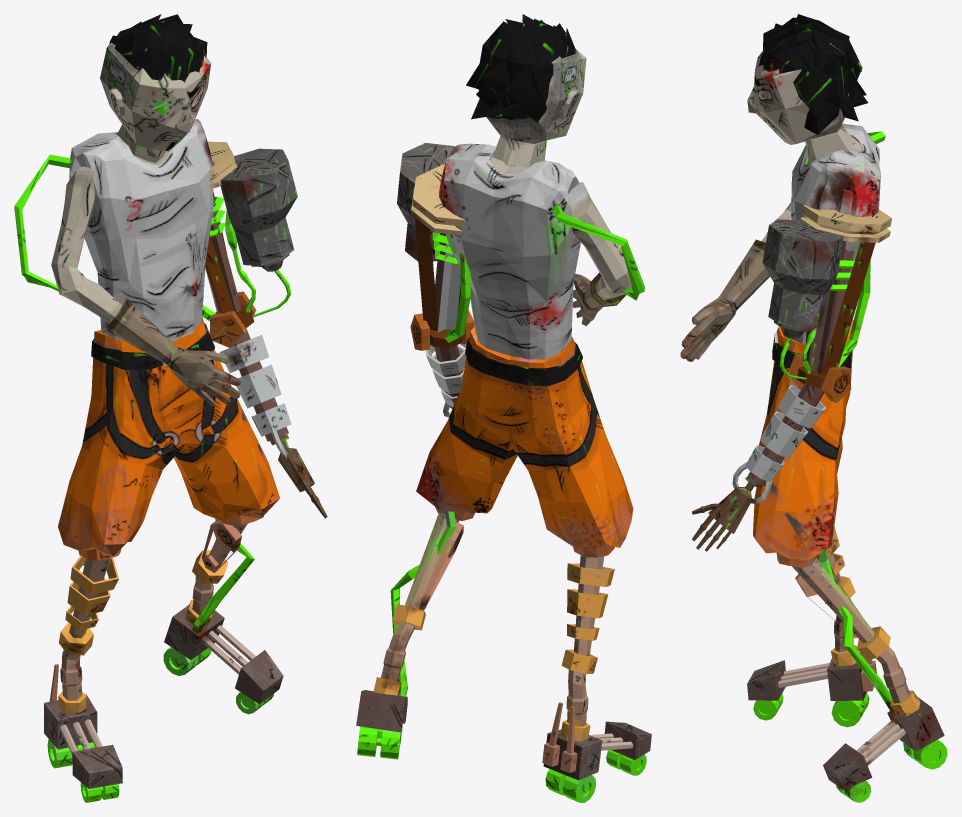
File: CyborgFINALAnimation_000174.obj
The picture shows the model from 3 angles, left to right: view 1: azimuth 30°, elevation 25°; view 2: azimuth 150°, elevation 25°; view 3: azimuth 270°, elevation 25°; orthographic projection. The views are drawn at different scales.
Visible parts, largest first — view 1: CyborgMesh_Cube.002; view 2: CyborgMesh_Cube.002; view 3: CyborgMesh_Cube.002.
Boxes of the visible parts, <box> form: CyborgMesh_Cube.002: <box>14,14,327,802</box>; CyborgMesh_Cube.002: <box>356,14,651,802</box>; CyborgMesh_Cube.002: <box>680,14,947,802</box>.
Size of the model in its own units: 3.61 by 9.66 by 3.2.
